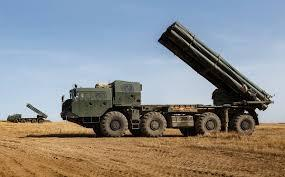MIL_SAM_TEL: (61, 22, 273, 134), (6, 100, 49, 123)
